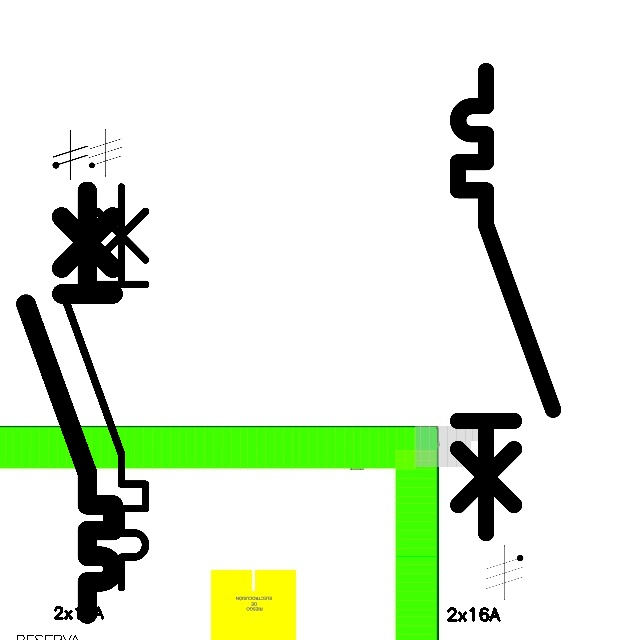interruptor_termomagnetico: (446, 59, 565, 545), (15, 180, 124, 625), (53, 176, 156, 597)
